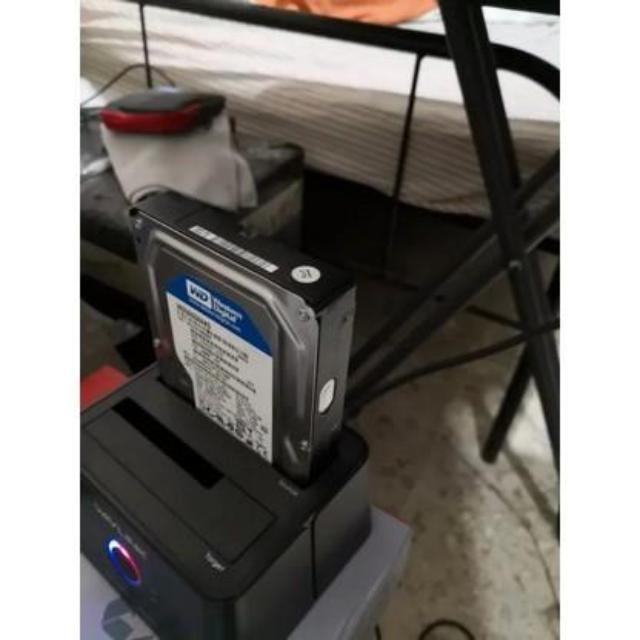DISK: (127, 184, 356, 490)
